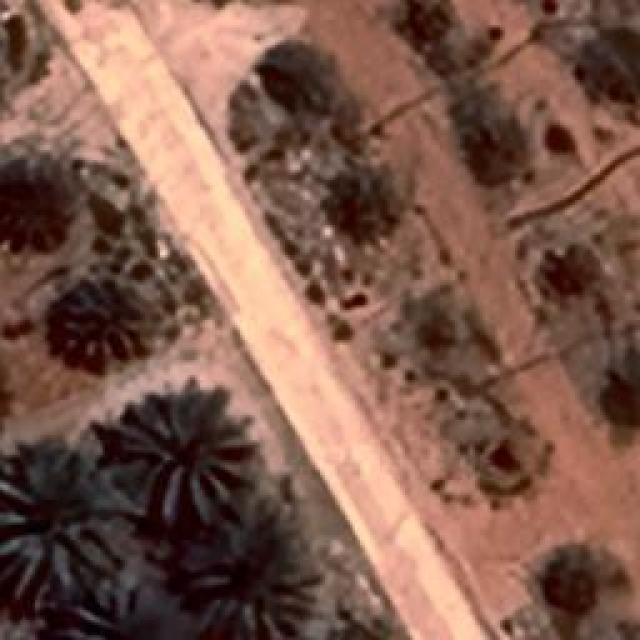PalmTree: (66, 75, 621, 391), (0, 450, 128, 588), (120, 395, 248, 523), (192, 515, 318, 635), (259, 35, 339, 123), (44, 592, 184, 640), (54, 288, 148, 356), (328, 162, 404, 236), (35, 73, 66, 201), (464, 118, 524, 180), (301, 607, 408, 640), (586, 38, 640, 102), (394, 0, 454, 51), (538, 566, 596, 612), (535, 248, 590, 292), (0, 344, 11, 439)
